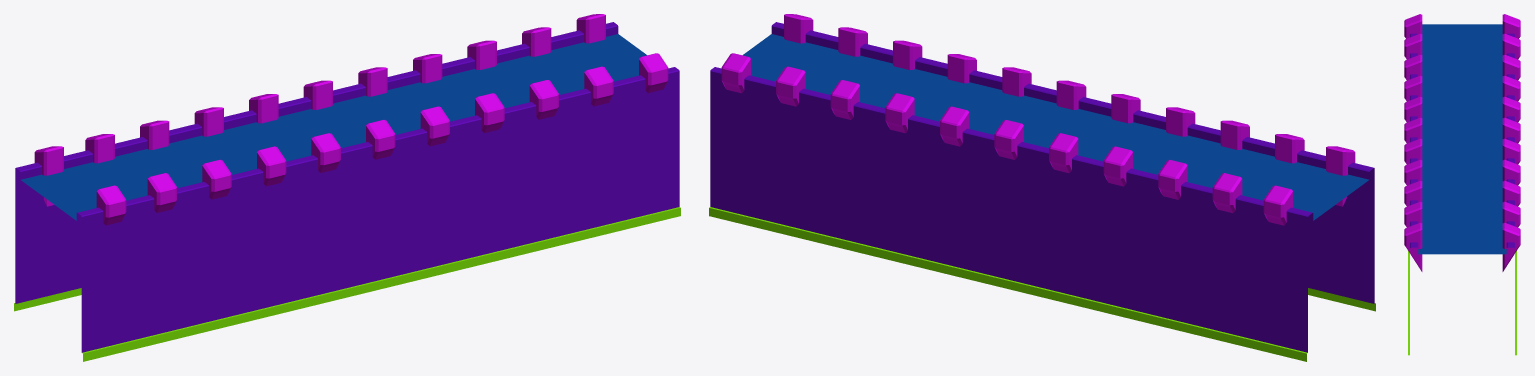
Rendered from Waal20.fbx.
The picture shows the model from 3 angles, left to right: view 1: azimuth 30°, elevation 25°; view 2: azimuth 150°, elevation 25°; view 3: azimuth 270°, elevation 25°; orthographic projection. The views are drawn at different scales.
Parts seen in each view (by area): view 1: Wall20_LOD0; view 2: Wall20_LOD0; view 3: Wall20_LOD0.
Part boxes in pixels (x1,y1,x2,y2): Wall20_LOD0: (14, 14, 680, 361); Wall20_LOD0: (709, 14, 1375, 361); Wall20_LOD0: (1404, 14, 1520, 355).
Size of what is drawn, in the model's own units: 1999 by 515 by 426.
